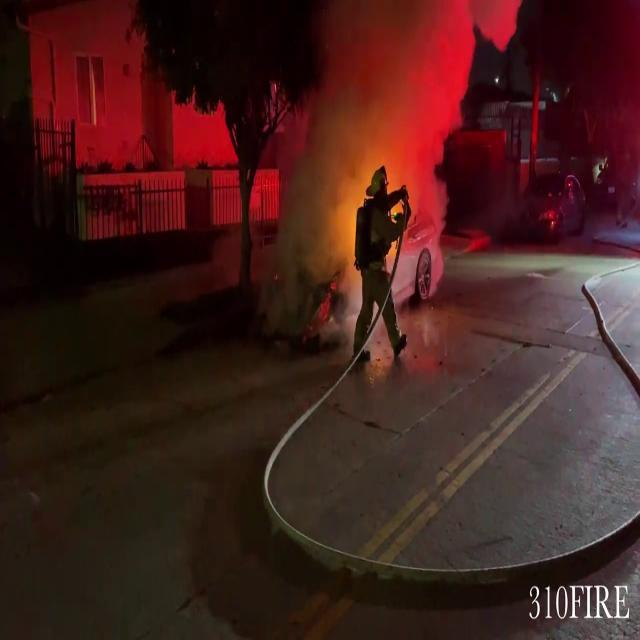Smoke: (266, 0, 483, 252)
